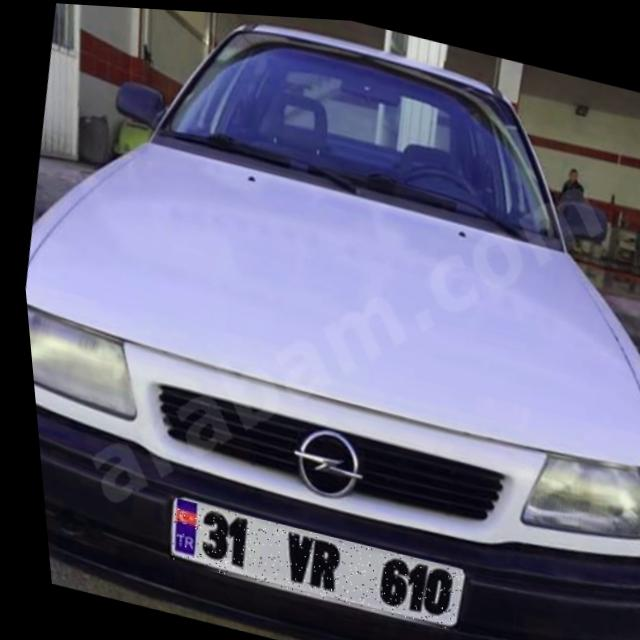license_plate: (154, 496, 457, 628)
